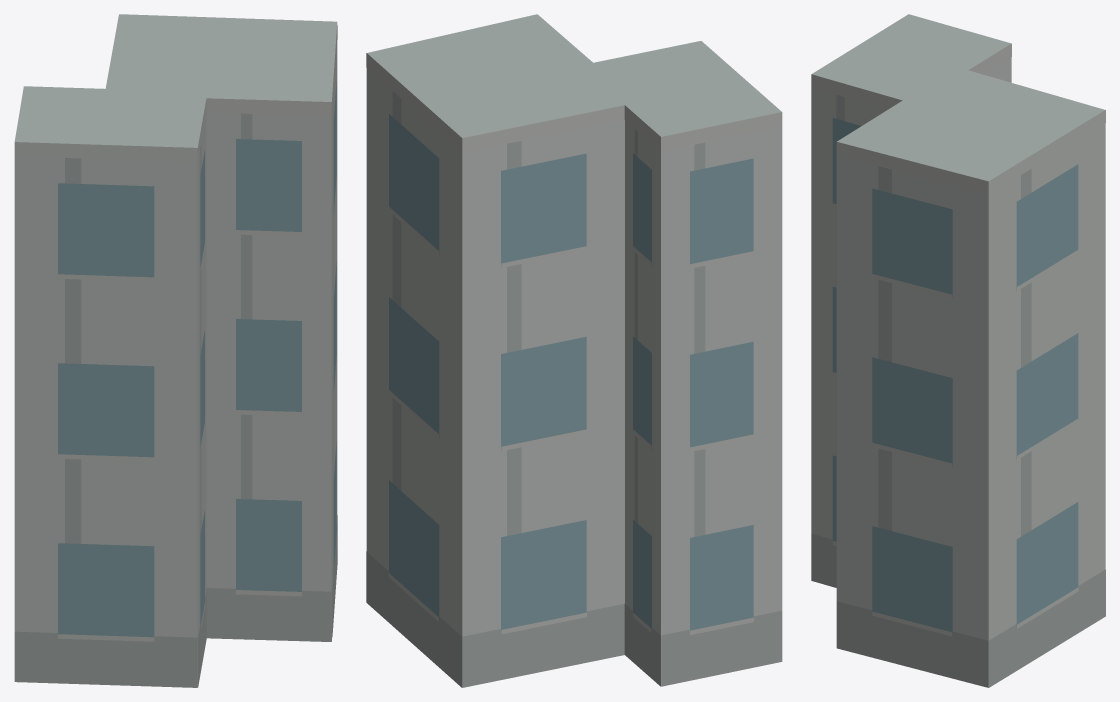
Rendered from survey-upis-32820838.glb.
The picture shows the model from 3 angles, left to right: view 1: azimuth 30°, elevation 25°; view 2: azimuth 150°, elevation 25°; view 3: azimuth 270°, elevation 25°; orthographic projection. The views are drawn at different scales.
Parts seen in each view (by area): view 1: survey-upis-32820838.tmp; view 2: survey-upis-32820838.tmp; view 3: survey-upis-32820838.tmp.
Part boxes in pixels (box(x1,y1,x2,y2)): survey-upis-32820838.tmp: box(14, 14, 337, 687); survey-upis-32820838.tmp: box(366, 14, 782, 687); survey-upis-32820838.tmp: box(811, 14, 1105, 687).
Bounding box in the file's own units: 6.49 × 9.15 × 4.83.
